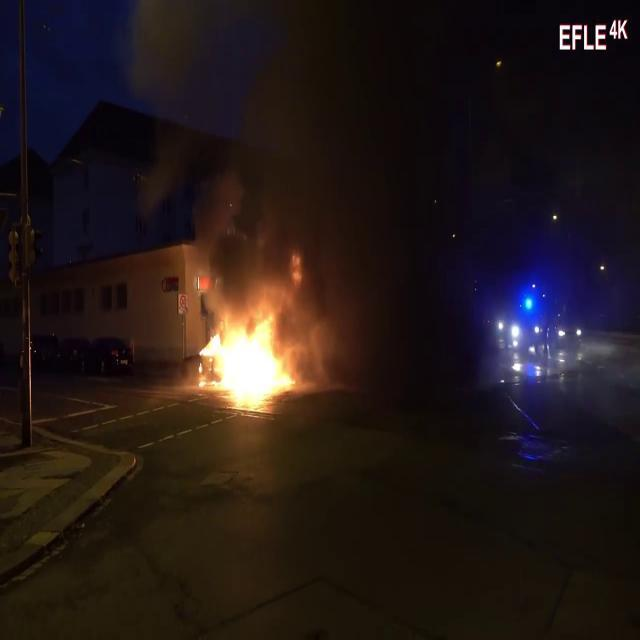Fire: (193, 306, 299, 412)
Smoke: (181, 102, 347, 348)
